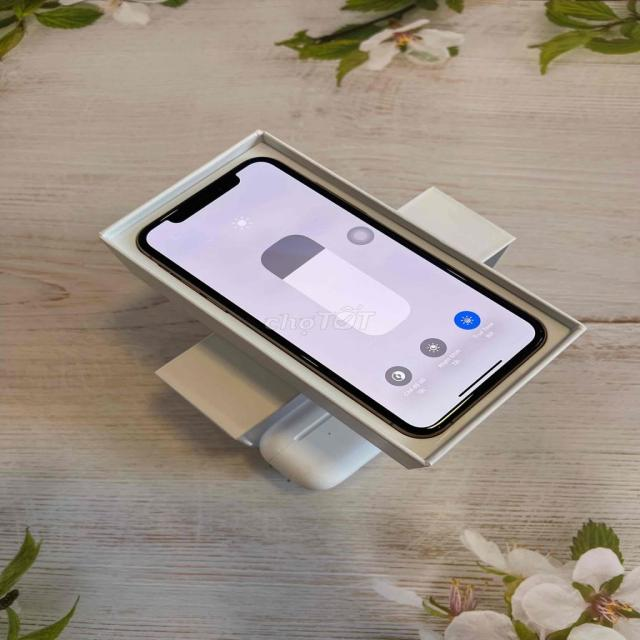gen_x_xs: (65, 102, 601, 468)
